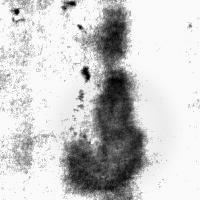patches: (61, 77, 167, 183), (65, 69, 144, 193), (90, 7, 129, 60)
